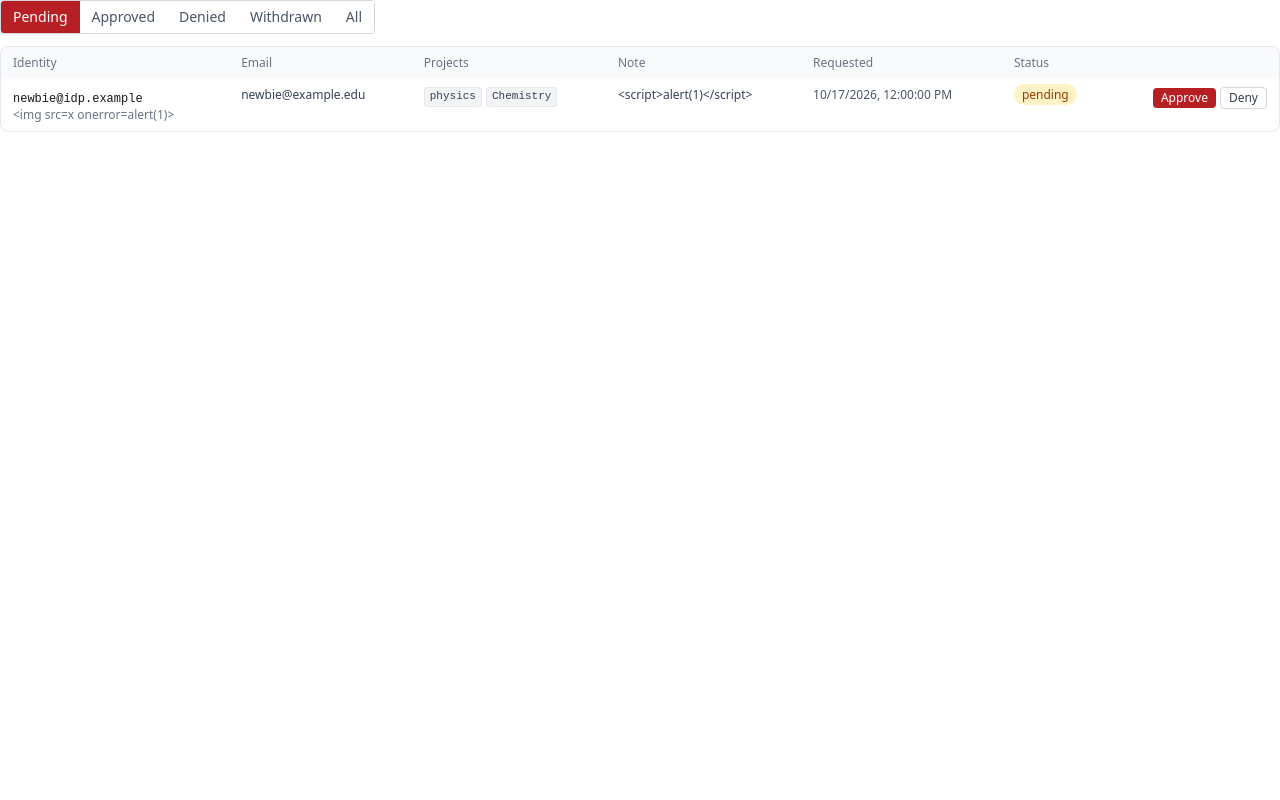
Test: Requests › offers to mark the request resolved when the identity already exists
Click the button "Approve": (1184, 98) x1=1153 y1=88 x2=1216 y2=108
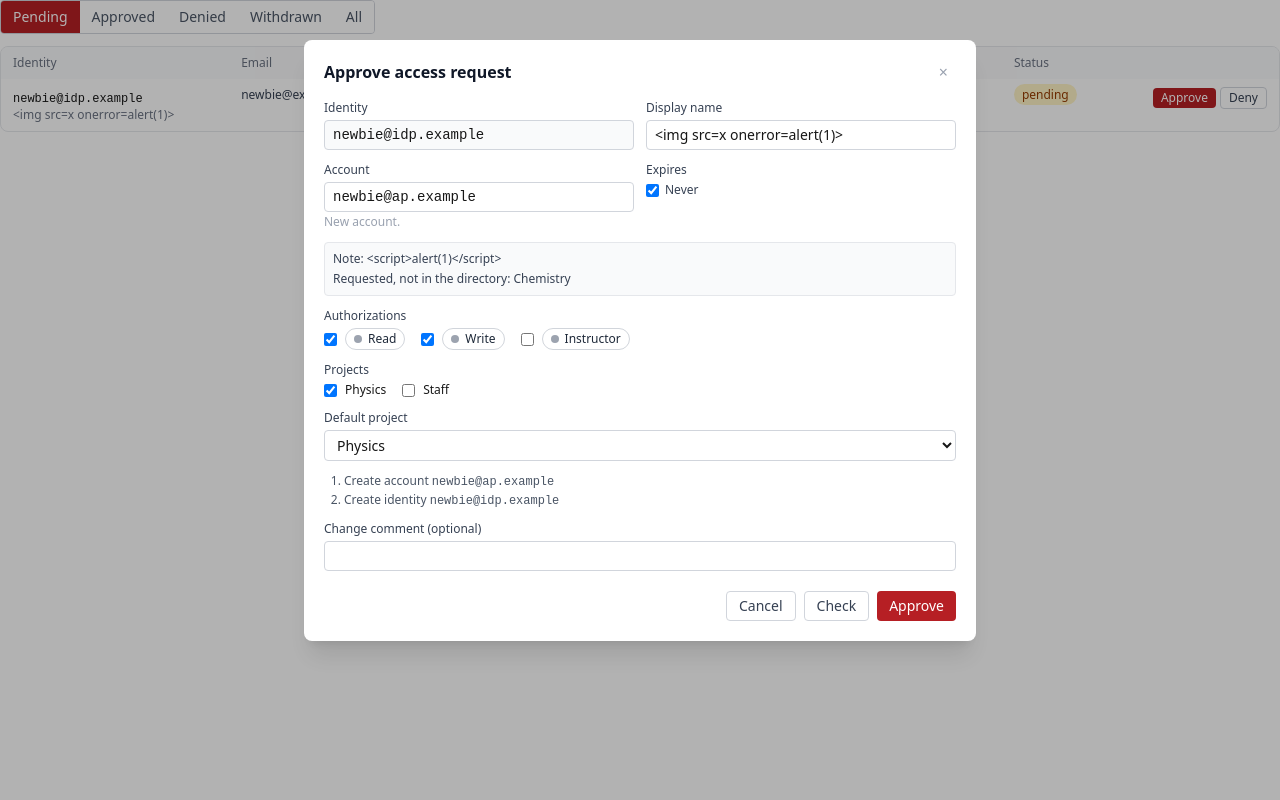
Click the button "Approve": (917, 606) x1=877 y1=591 x2=956 y2=621
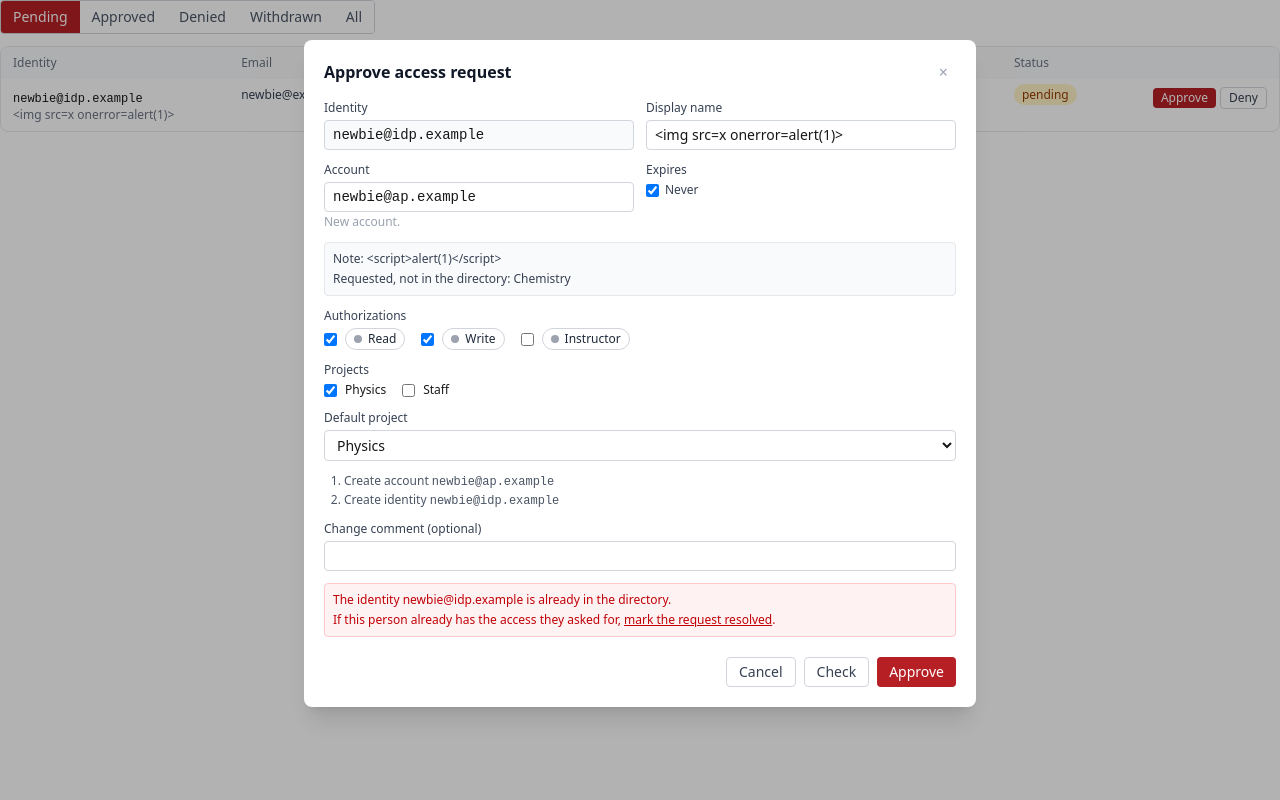
Click the button "mark the request resolved": (698, 620) x1=624 y1=612 x2=772 y2=628
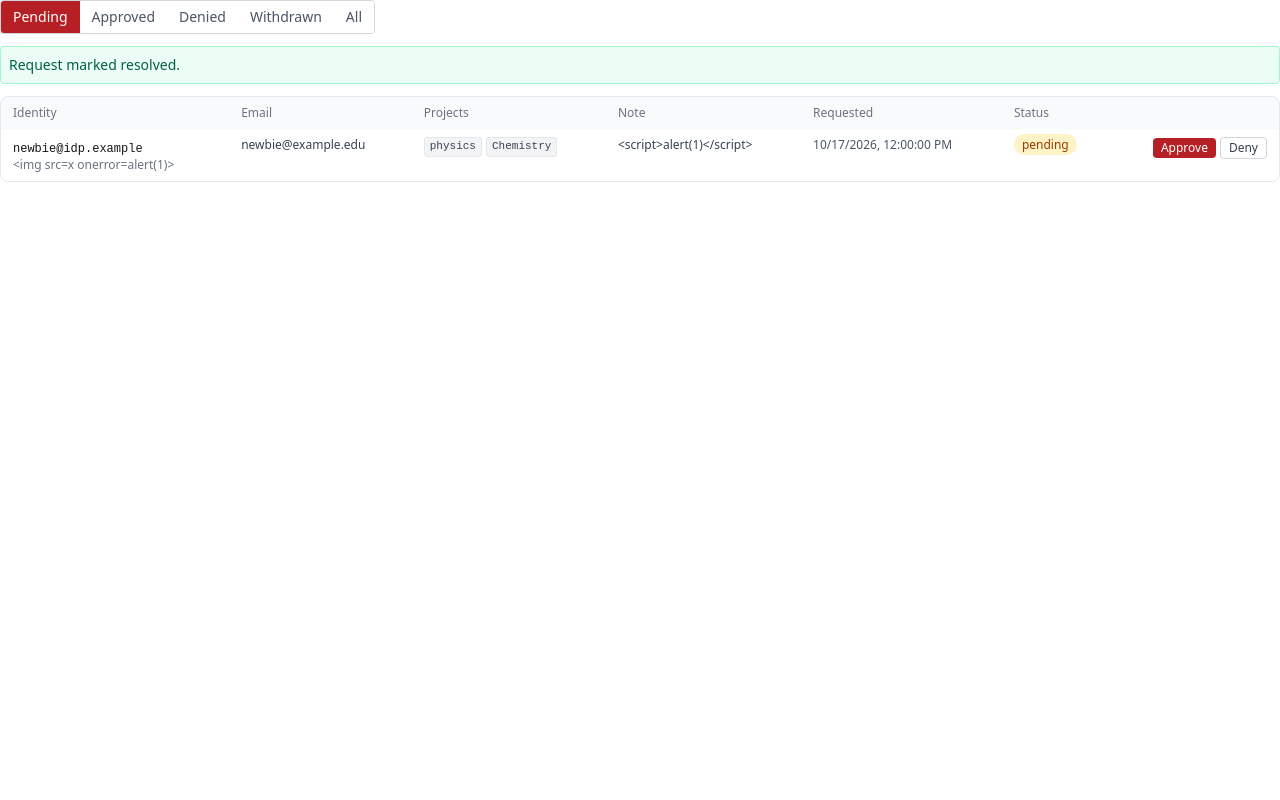
Expected: the text "Request marked resolved." is shown, x1=0 y1=46 x2=1279 y2=84
